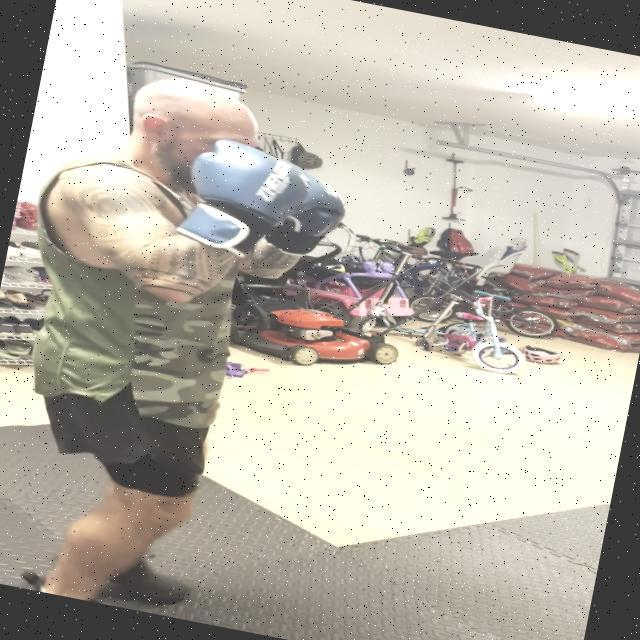no punch: (26, 54, 372, 336)
